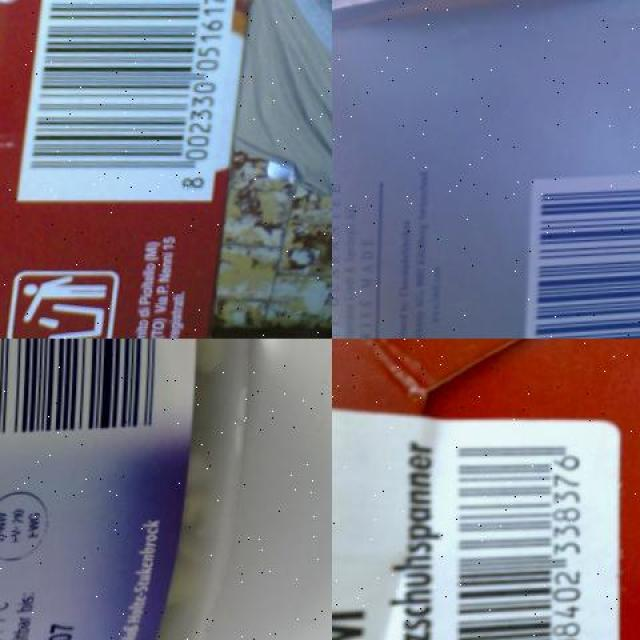Barcode: (19, 0, 244, 208), (438, 426, 602, 640), (0, 339, 191, 449), (528, 176, 640, 339)
